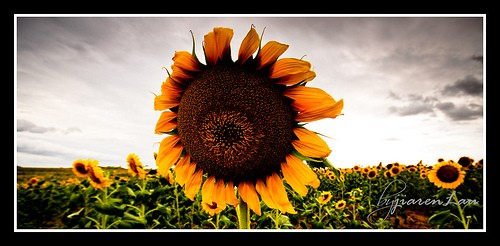flower: (149, 19, 346, 221), (426, 160, 466, 190)
